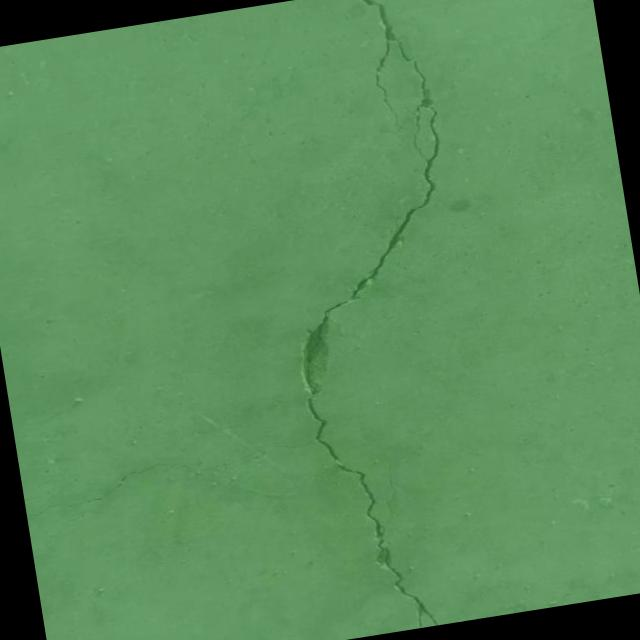crack: (201, 0, 516, 640), (22, 446, 275, 520)
